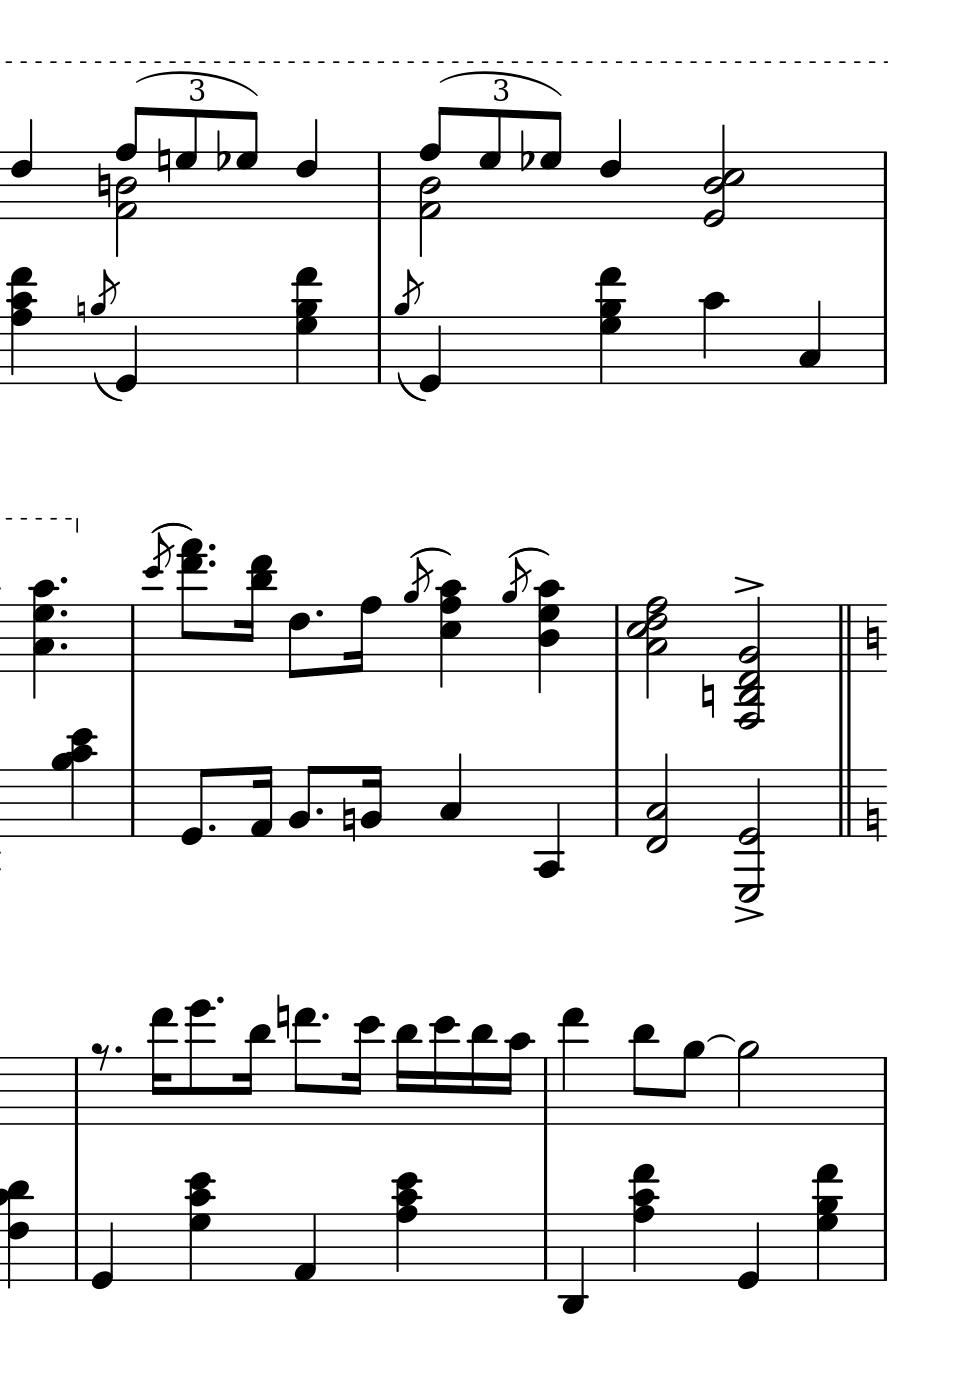16_1: (248, 764, 274, 841)
16_10: (502, 1032, 533, 1127)
16_11: (235, 1022, 272, 1127), (391, 1022, 419, 1128), (467, 1022, 493, 1126)
16_11_13: (235, 554, 275, 673)
16_12: (344, 1015, 383, 1127), (430, 1016, 458, 1127)
16_13: (147, 1007, 175, 1126)
16_14: (185, 999, 215, 1127)
16_2: (358, 764, 384, 838)
16_8: (346, 594, 380, 676)
2_-1_3: (646, 755, 671, 856)
2_-7_0: (734, 768, 767, 902)
2_9: (735, 1039, 762, 1127)
3: (491, 78, 509, 103), (188, 78, 205, 103)
4_-3: (558, 1209, 587, 1317)
4_-4: (533, 766, 563, 878)
4_0: (736, 1212, 762, 1292), (89, 1211, 115, 1289), (419, 315, 443, 394), (116, 316, 139, 394)
4_1: (291, 1213, 318, 1284)
4_10: (699, 290, 728, 388)
4_13: (557, 1008, 589, 1127)
4_3: (797, 298, 823, 386), (438, 751, 462, 837)
4_6: (8, 117, 35, 223), (294, 116, 319, 223), (598, 117, 623, 221)
4_th: (810, 1157, 844, 1285), (591, 261, 624, 386), (290, 262, 322, 385), (390, 1168, 422, 1282), (627, 1158, 657, 1279), (183, 1166, 214, 1282)
8_0: (179, 767, 211, 847)
8_11: (630, 1021, 657, 1128)
8_13: (290, 1008, 320, 1126)
8_2: (286, 764, 318, 838)
8_6: (286, 603, 310, 681)
8_7: (174, 108, 198, 221), (477, 108, 502, 221), (539, 109, 563, 220), (235, 110, 259, 220)
8_9: (673, 1040, 705, 1126)
Accent_above: (731, 573, 764, 595), (731, 903, 765, 925)
Acciaccature: (401, 557, 435, 678), (87, 269, 122, 384), (498, 554, 530, 670), (393, 267, 424, 385)
Double_barline: (832, 768, 858, 837), (833, 604, 856, 671)
Flat: (517, 126, 533, 172), (213, 127, 230, 172)
Natural: (862, 796, 881, 844), (698, 671, 716, 720), (95, 161, 112, 211), (155, 136, 172, 185), (863, 615, 880, 662), (340, 796, 357, 843), (275, 993, 288, 1040), (75, 292, 86, 324)
Rests8: (90, 1041, 110, 1072)
Single_barline: (67, 1213, 85, 1281), (875, 1057, 893, 1124), (536, 1058, 554, 1124), (608, 606, 625, 672), (370, 317, 387, 383), (876, 1214, 892, 1281), (371, 153, 387, 218), (876, 317, 892, 383), (125, 606, 141, 671), (124, 770, 140, 835), (68, 1059, 84, 1123), (538, 1213, 553, 1281), (877, 152, 892, 218), (609, 770, 624, 836)
Slur: (392, 372, 430, 403), (90, 372, 126, 403), (408, 544, 453, 560), (507, 545, 552, 560), (152, 521, 192, 534), (707, 1033, 735, 1043)
dot: (56, 574, 71, 587), (57, 607, 71, 620), (205, 557, 218, 569), (313, 606, 325, 620), (58, 641, 71, 653), (205, 541, 218, 552), (205, 822, 217, 834), (214, 995, 226, 1007), (319, 1011, 330, 1022), (313, 806, 323, 817), (113, 1043, 123, 1055)
